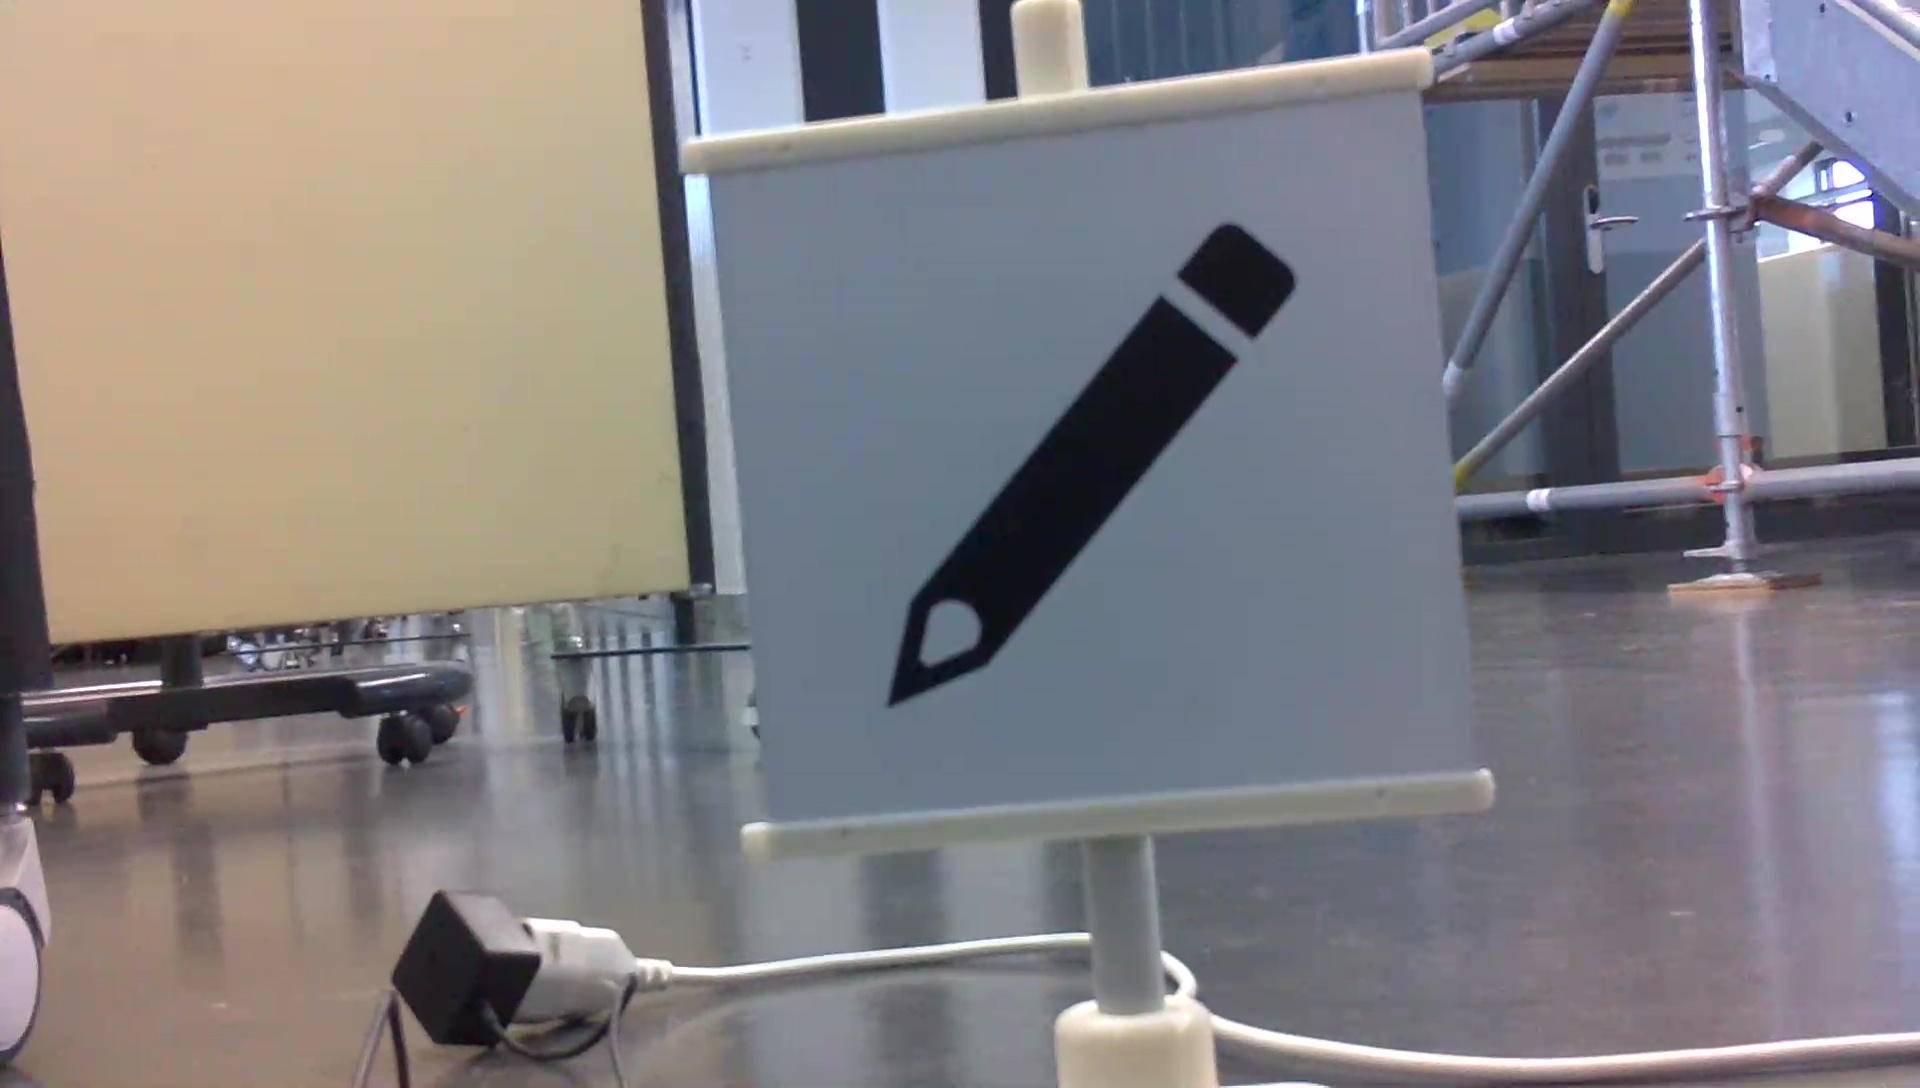pencil: (865, 207, 1309, 719)
